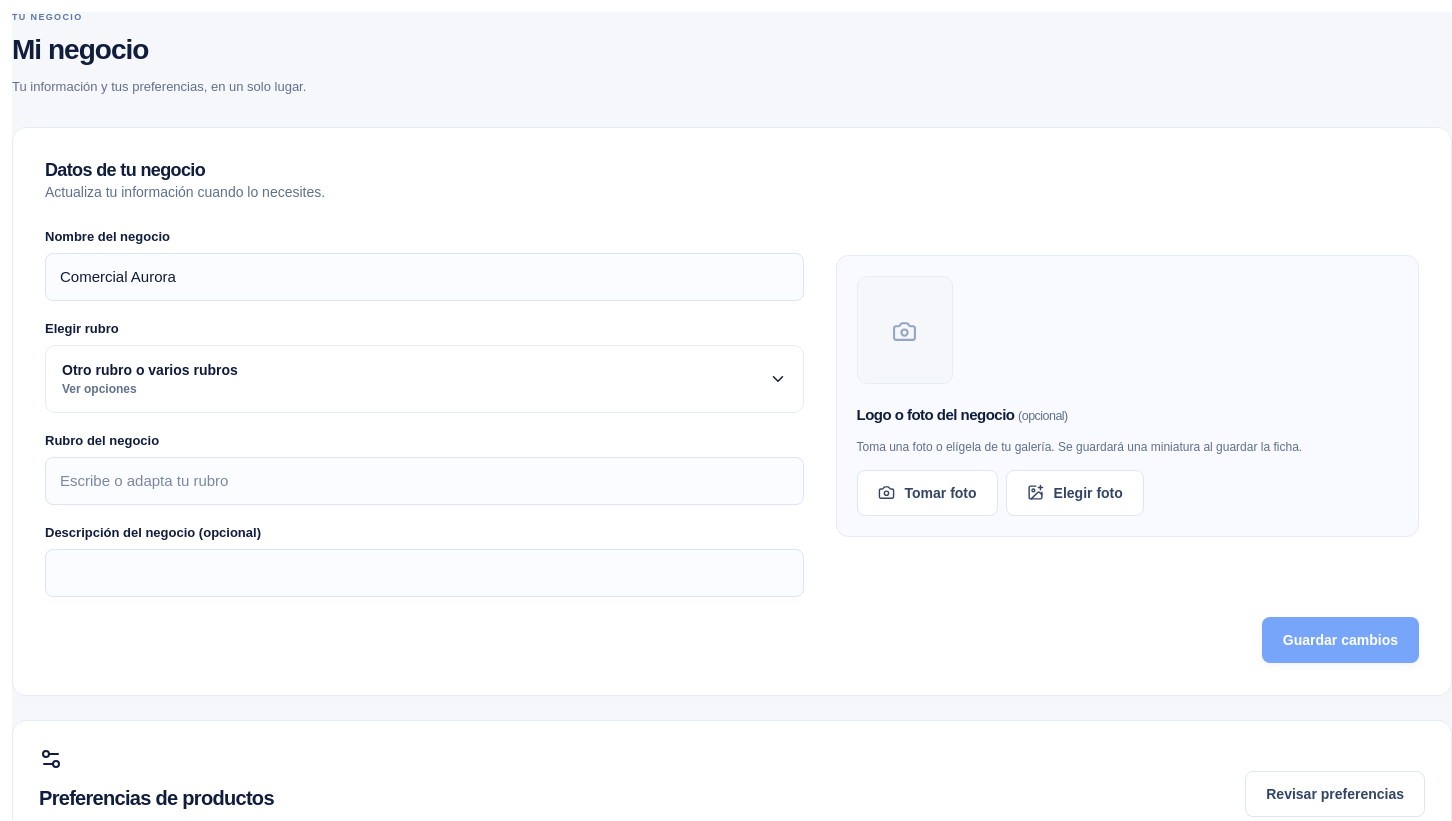
edita el rubro directamente sin repetir el asistente ni los locales
The image size is (1452, 821).
Type " Artesanía y regalos " into the field labelled "Rubro del negocio". click: (424, 480)
box: [45,456,804,504]
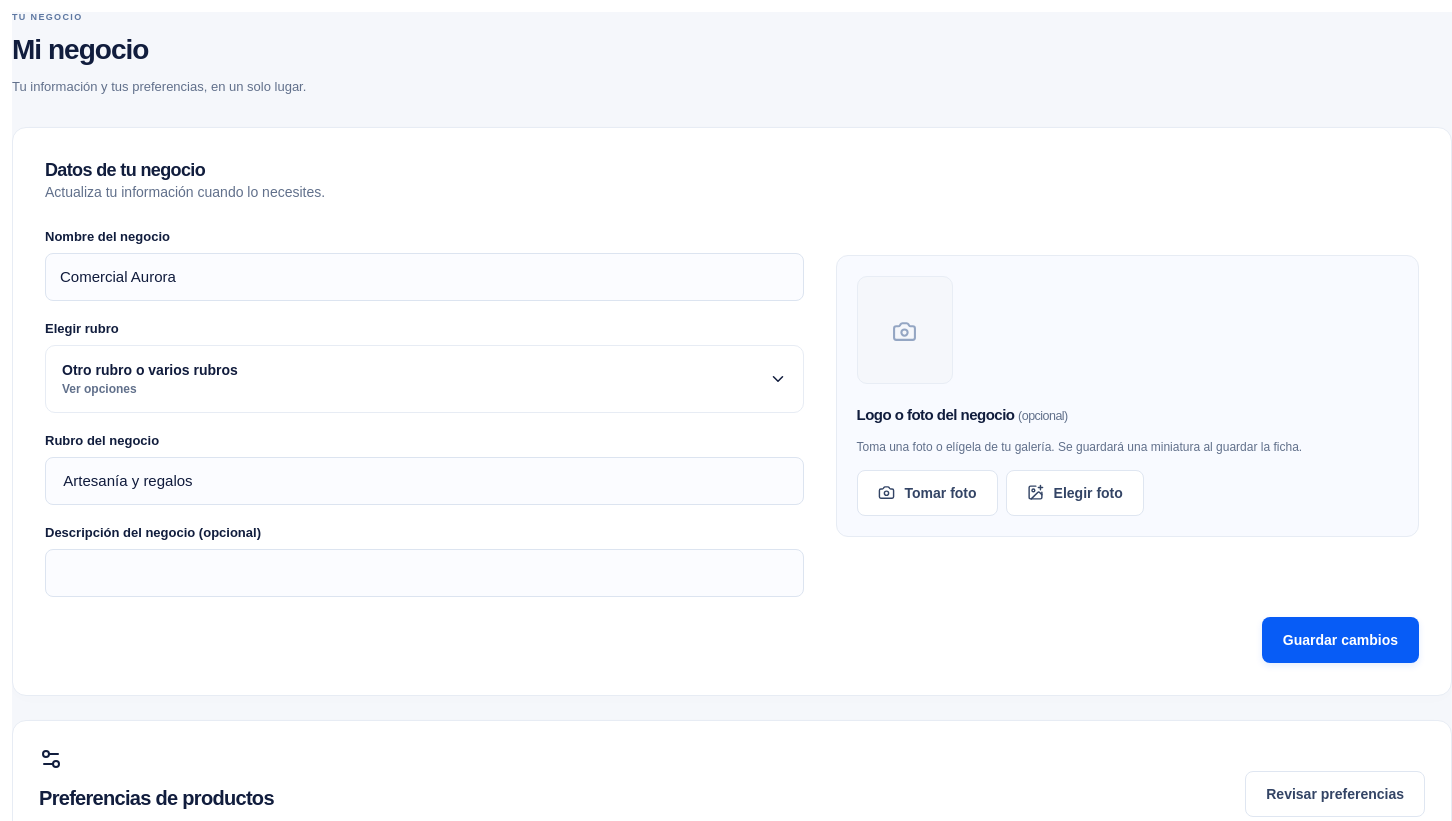
Click the button "Guardar cambios". click: (1340, 640)
box: [1262,616,1419,662]
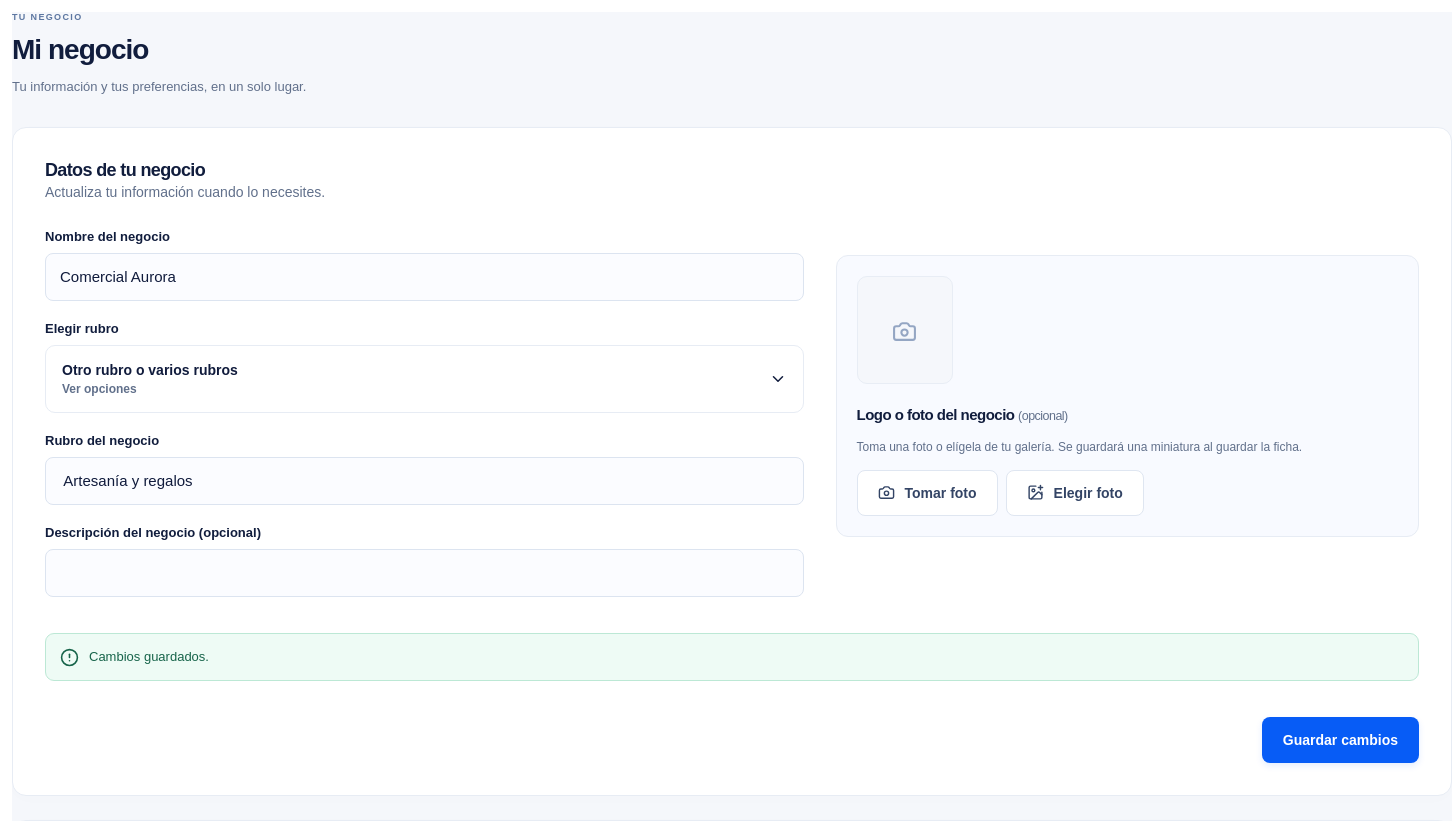
Result: the text "Cambios guardados." is shown at [89,646,209,666]
